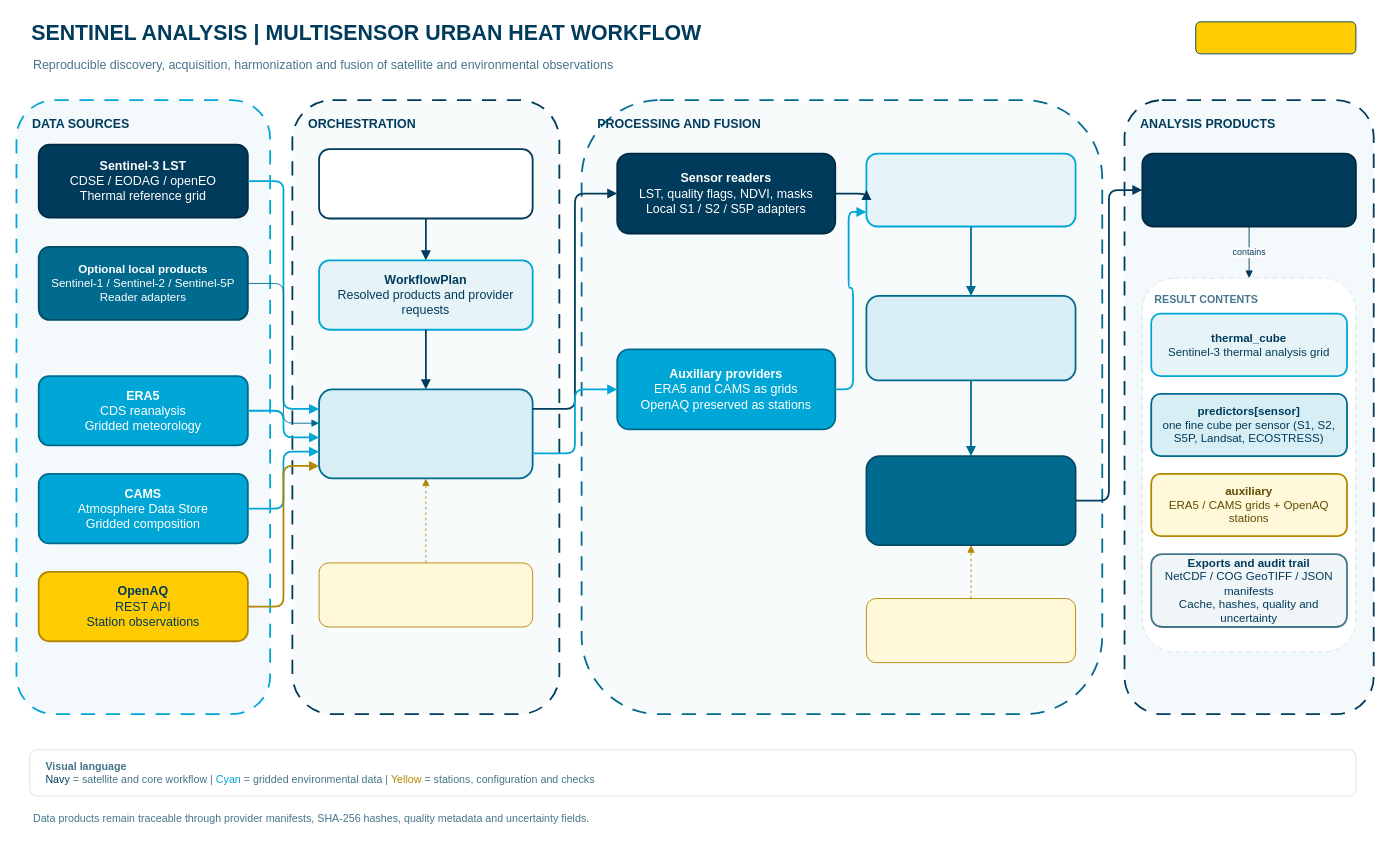
Some shapes in this 1389 by 845 pixel diagram are drawn without their labels. Each missing label, with the centre of its shape:
"AnalysisRequest AOI | dates | sensors | auxiliary specs" belongs at [425,183].
"AnalysisResult One typed result with data and provenance" belongs at [1248,189].
"Configuration Credentials from environment No secrets in manifests" belongs at [425,594].
"Discovery and acquisition STAC | CDS | ADS | OpenAQ SHA-256 cache and manifests" belongs at [425,433].
"ESA-INSPIRED" belongs at [1275,37].
"Fusion and downscaling Thermal cube + predictor cube Uncertainty and provenance" belongs at [970,500].
"Harmonization Spatial regridding Temporal matching and deltas" belongs at [970,338].
"Normalize and quality control Coordinates | units | masks | metadata" belongs at [970,189].
"Validation Schema, coverage and consistency checks" belongs at [971,630].
